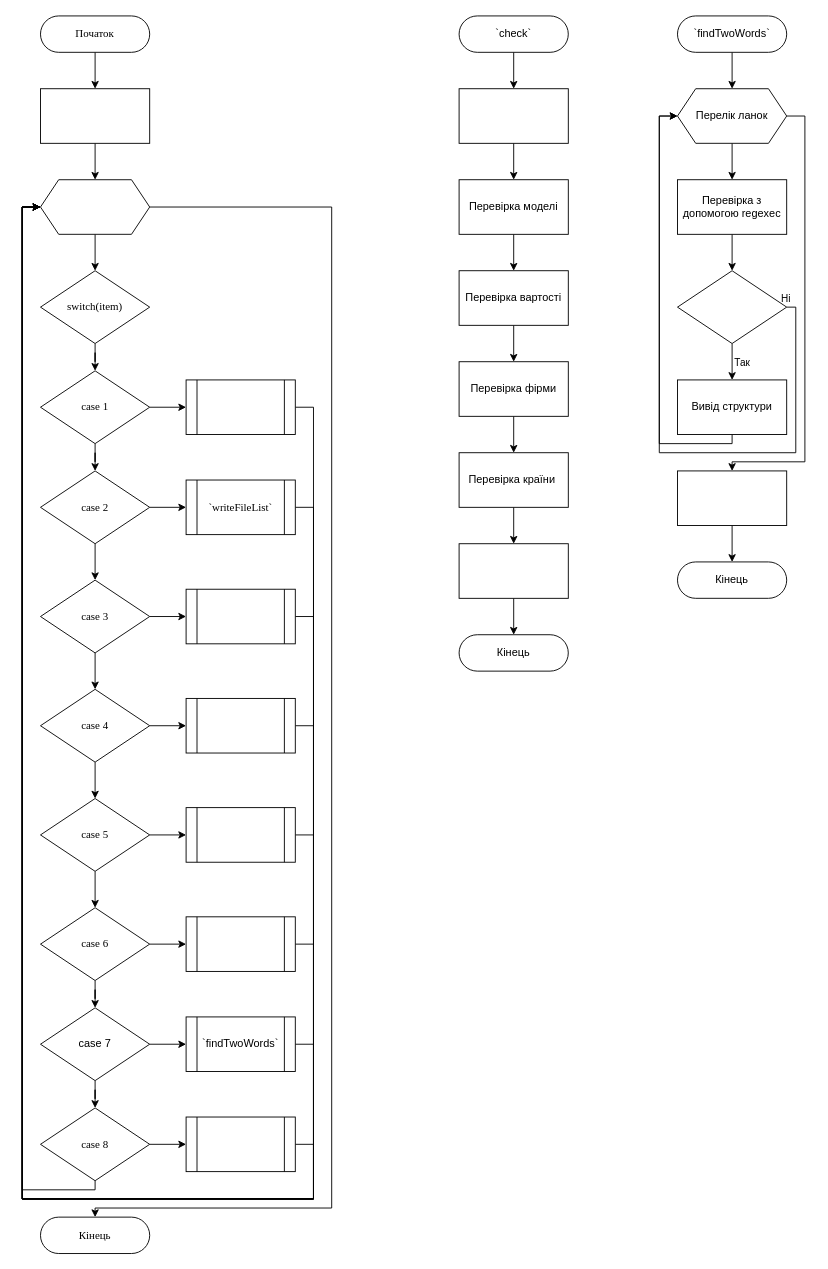
The diagram is 828 pixels wide and 1269 high, and some of its shapes have lost their labels. The centre of each missing label's shape, as x and y in pixels:
"0<i<99" goes at point (95, 206).
"` deleteLink `" goes at point (240, 943).
"` findWithCriterion `" goes at point (240, 616).
"` showList `" goes at point (240, 407).
"` sortByPrice `" goes at point (240, 725).
"`check` ` insertLink `" goes at point (240, 834).
"return 0 ;" goes at point (240, 1144).
"Вивід результату" goes at point (732, 498).
"Зчитування данних з файлу" goes at point (95, 115).
"Критерії підходять?" goes at point (732, 307).
"Перевірка вологостійкості" goes at point (513, 115).
"Перевірка стилю" goes at point (513, 570).
